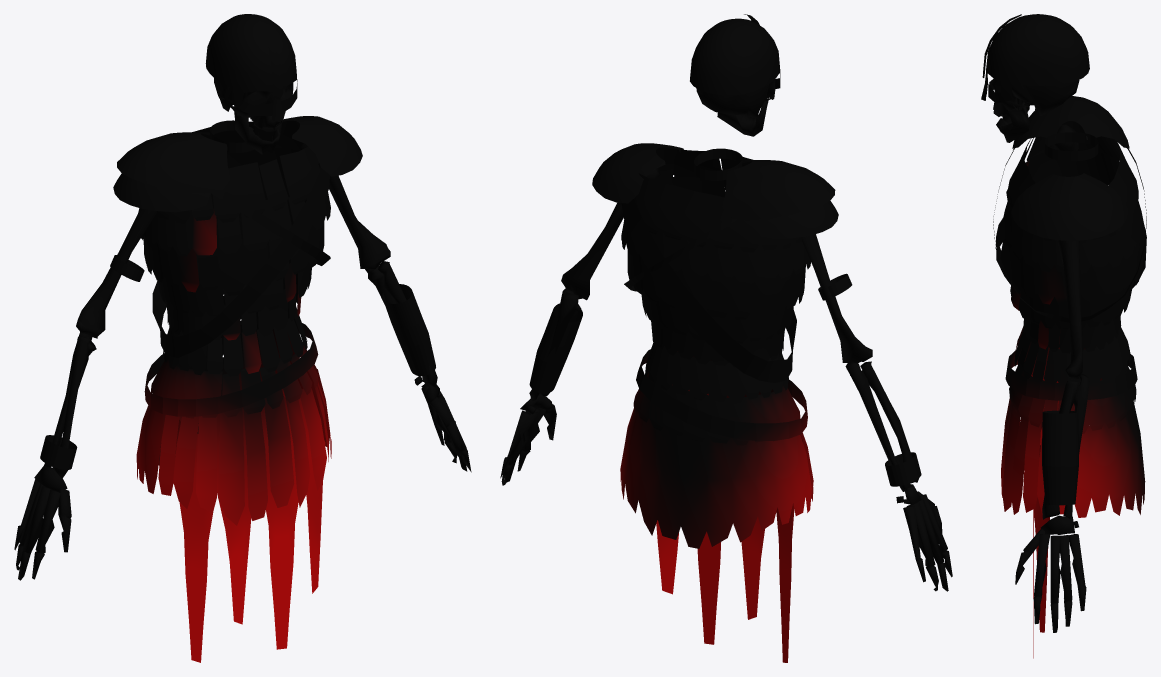
The model's file is deamom03.FBX.
3 renders of one model, left to right at view 1: azimuth 30°, elevation 25°; view 2: azimuth 150°, elevation 25°; view 3: azimuth 270°, elevation 25°, orthographic.
Parts seen in each view (by area): view 1: demon02; view 2: demon02; view 3: demon02.
Boxes of the visible parts, x1=… form: demon02: x1=14, y1=14, x2=471, y2=662; demon02: x1=500, y1=14, x2=952, y2=662; demon02: x1=981, y1=14, x2=1146, y2=658.
Size of the model in its own units: 66.53 by 90.71 by 21.57.
